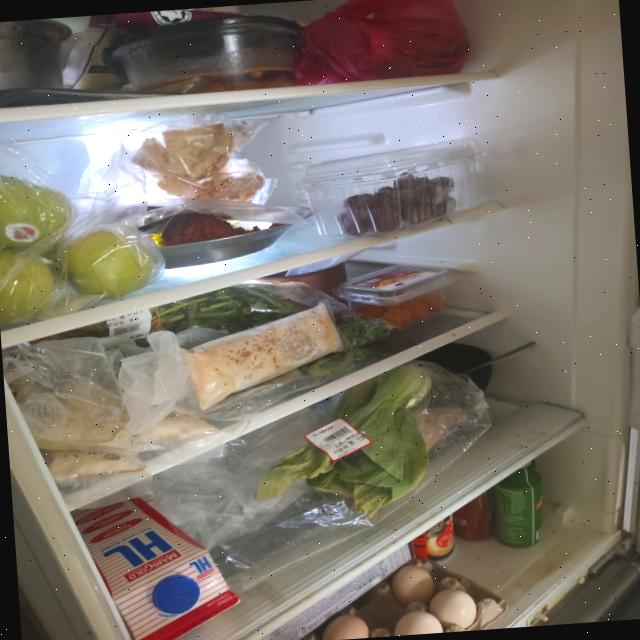apple: (0, 162, 157, 321)
egg: (289, 550, 509, 640)
grape: (332, 168, 458, 238)
leafy_greens: (140, 289, 280, 345)
pakchoy: (246, 360, 441, 524)
tempeh: (178, 302, 348, 414), (45, 442, 147, 480)
unknown_bag: (289, 0, 472, 85), (2, 334, 130, 452)
